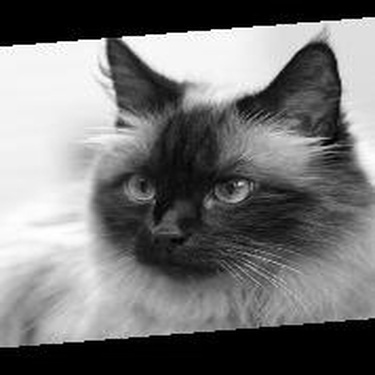cat: (6, 33, 373, 344)
